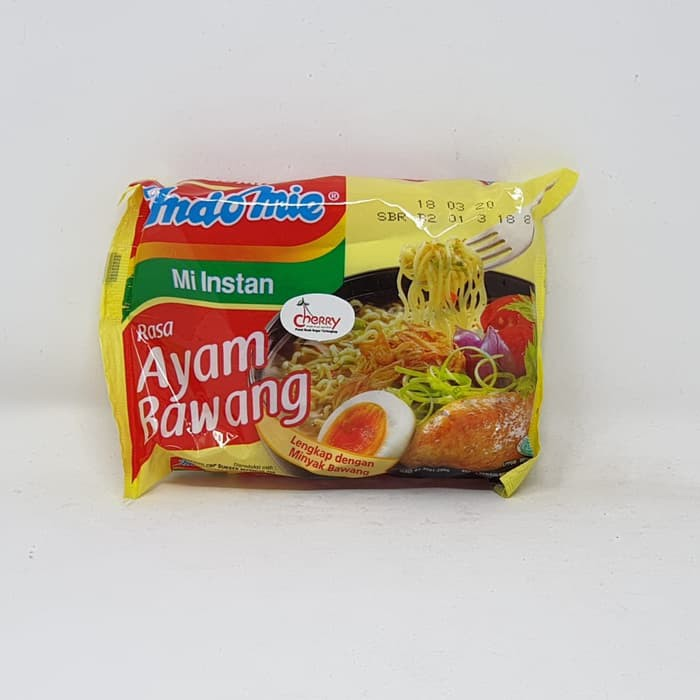Indomie Ayam Bawang (69g): (98, 162, 572, 511)
